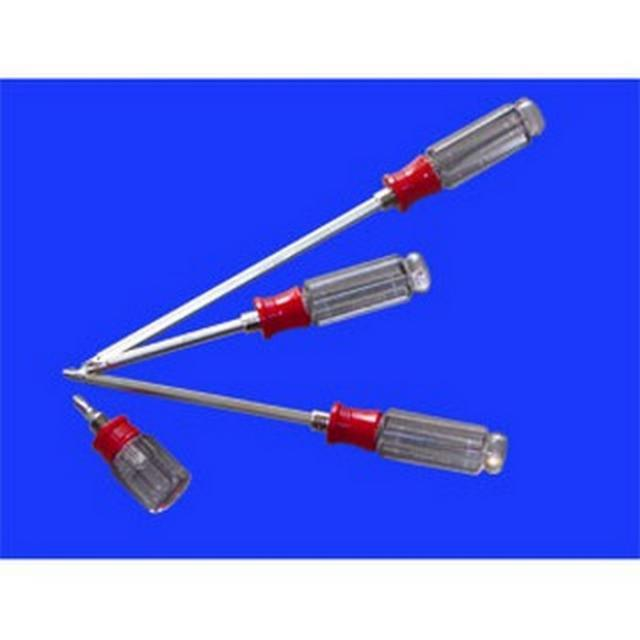screwdriver: (84, 92, 551, 378), (61, 362, 522, 485), (80, 252, 440, 378), (70, 390, 194, 520)
